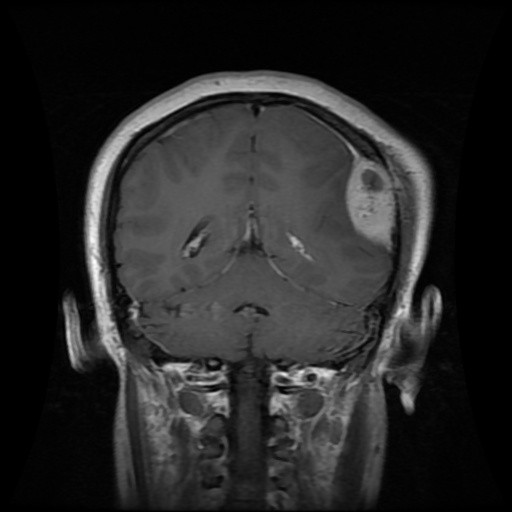meningioma: (347, 157, 397, 249)
